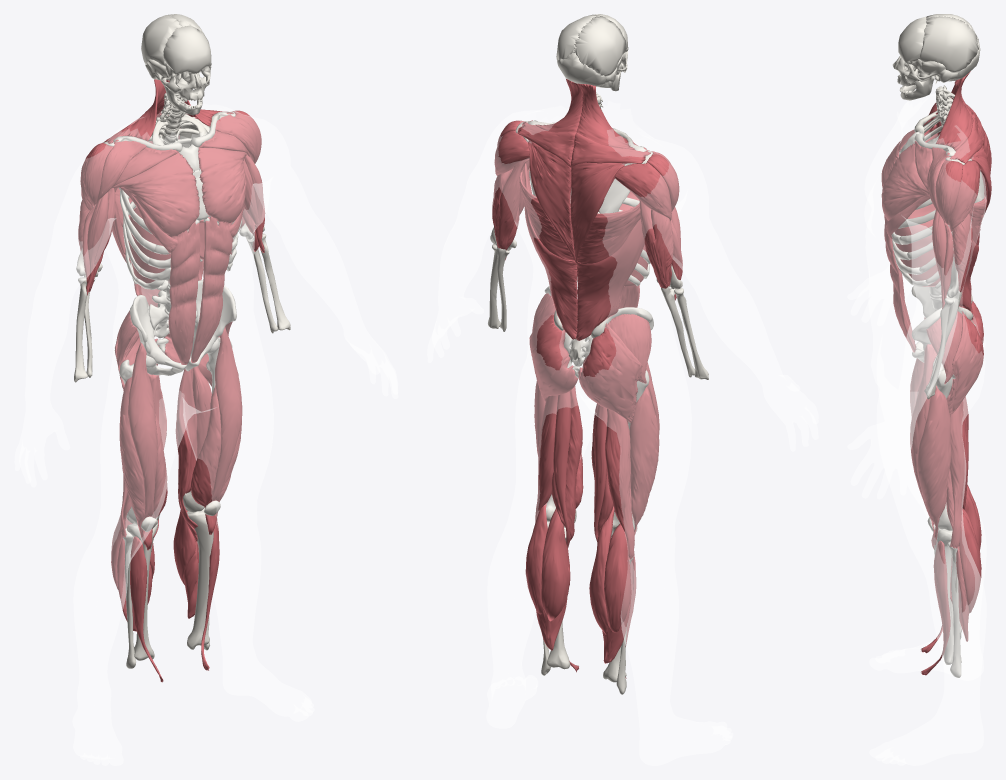
The model's file is submodel_musculoskeletal.glb.
3 renders of one model, left to right at view 1: azimuth 30°, elevation 25°; view 2: azimuth 150°, elevation 25°; view 3: azimuth 270°, elevation 25°, orthographic. The views are drawn at different scales.
Parts seen in each view (by area): view 1: Anatomy_Torso, Anatomy_Abdomen, Muscle_QuadricepsFemoris, Muscle_Pectoralis, Muscle_RectusAbdominis, Muscle_TricepsSurae_Calf, Skeletal_Limbs_Lower, Skeletal_Skull, Skeletal_Ribcage, Muscle_Hamstrings, Muscle_Deltoid, Muscle_BicepsBrachii (+7 smaller); view 2: Anatomy_Abdomen, Anatomy_Torso, Muscle_Trapezius, Muscle_LatissimusDorsi, Muscle_Hamstrings, Muscle_TricepsSurae_Calf, Muscle_Gluteal, Skeletal_Skull, Muscle_QuadricepsFemoris, Muscle_TricepsBrachii, Muscle_Deltoid, Skeletal_Limbs_Upper (+5 smaller); view 3: Anatomy_Torso, Anatomy_Abdomen, Skeletal_Skull, Muscle_QuadricepsFemoris, Muscle_TricepsSurae_Calf, Muscle_Pectoralis, Muscle_Gluteal, Muscle_Deltoid, Muscle_Trapezius, Skeletal_Ribcage, Muscle_Hamstrings, Skeletal_Limbs_Lower (+8 smaller).
Boxes of the visible parts, x1=… form: Anatomy_Torso: x1=14, y1=104, x2=398, y2=765; Anatomy_Abdomen: x1=75, y1=268, x2=284, y2=756; Muscle_QuadricepsFemoris: x1=119, y1=327, x2=242, y2=550; Muscle_Pectoralis: x1=112, y1=130, x2=249, y2=253; Muscle_RectusAbdominis: x1=168, y1=216, x2=232, y2=364; Muscle_TricepsSurae_Calf: x1=111, y1=488, x2=219, y2=682; Skeletal_Limbs_Lower: x1=119, y1=337, x2=232, y2=668; Skeletal_Skull: x1=141, y1=14, x2=211, y2=115; Skeletal_Ribcage: x1=103, y1=111, x2=242, y2=289; Muscle_Hamstrings: x1=120, y1=366, x2=211, y2=551; Muscle_Deltoid: x1=80, y1=110, x2=261, y2=210; Muscle_BicepsBrachii: x1=82, y1=155, x2=265, y2=295; Anatomy_Abdomen: x1=488, y1=260, x2=702, y2=765; Anatomy_Torso: x1=427, y1=101, x2=818, y2=765; Muscle_Trapezius: x1=517, y1=79, x2=650, y2=263; Muscle_LatissimusDorsi: x1=519, y1=163, x2=644, y2=340; Muscle_Hamstrings: x1=535, y1=386, x2=634, y2=559; Muscle_TricepsSurae_Calf: x1=525, y1=500, x2=636, y2=678; Muscle_Gluteal: x1=529, y1=293, x2=651, y2=422; Skeletal_Skull: x1=556, y1=14, x2=628, y2=91; Muscle_QuadricepsFemoris: x1=534, y1=362, x2=659, y2=534; Muscle_TricepsBrachii: x1=492, y1=158, x2=673, y2=288; Muscle_Deltoid: x1=494, y1=120, x2=679, y2=220; Skeletal_Limbs_Upper: x1=488, y1=227, x2=708, y2=379; Anatomy_Torso: x1=847, y1=94, x2=986, y2=765; Anatomy_Abdomen: x1=868, y1=261, x2=986, y2=752; Skeletal_Skull: x1=892, y1=14, x2=980, y2=100; Muscle_QuadricepsFemoris: x1=910, y1=317, x2=951, y2=549; Muscle_TricepsSurae_Calf: x1=921, y1=485, x2=981, y2=675; Muscle_Pectoralis: x1=881, y1=117, x2=937, y2=238; Muscle_Gluteal: x1=926, y1=301, x2=983, y2=415; Muscle_Deltoid: x1=927, y1=103, x2=979, y2=231; Muscle_Trapezius: x1=935, y1=71, x2=991, y2=214; Skeletal_Ribcage: x1=891, y1=111, x2=984, y2=288; Muscle_Hamstrings: x1=946, y1=378, x2=968, y2=548; Skeletal_Limbs_Lower: x1=927, y1=356, x2=961, y2=677.
Bounding box in the file's own units: 0.9864 × 1.79 × 0.336.
